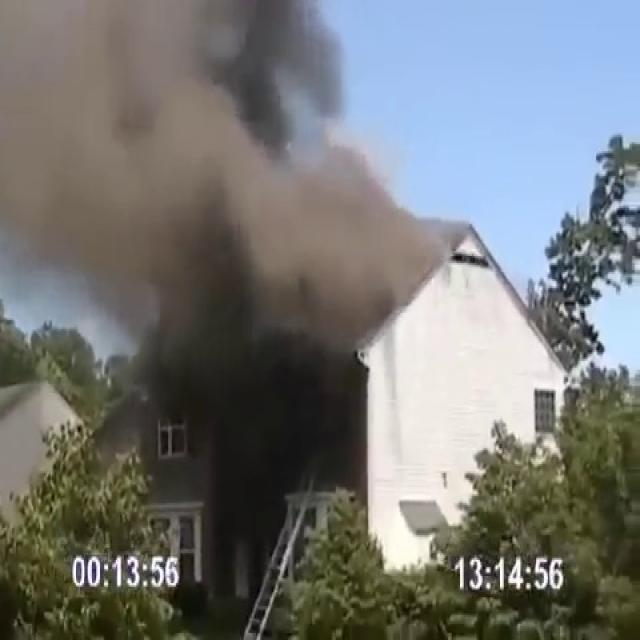Smoke: (1, 0, 440, 385)
